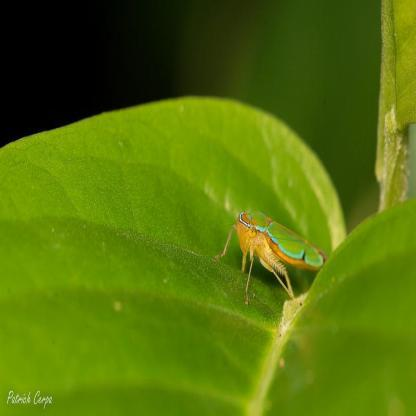green-leafhopper: (214, 208, 326, 306)
